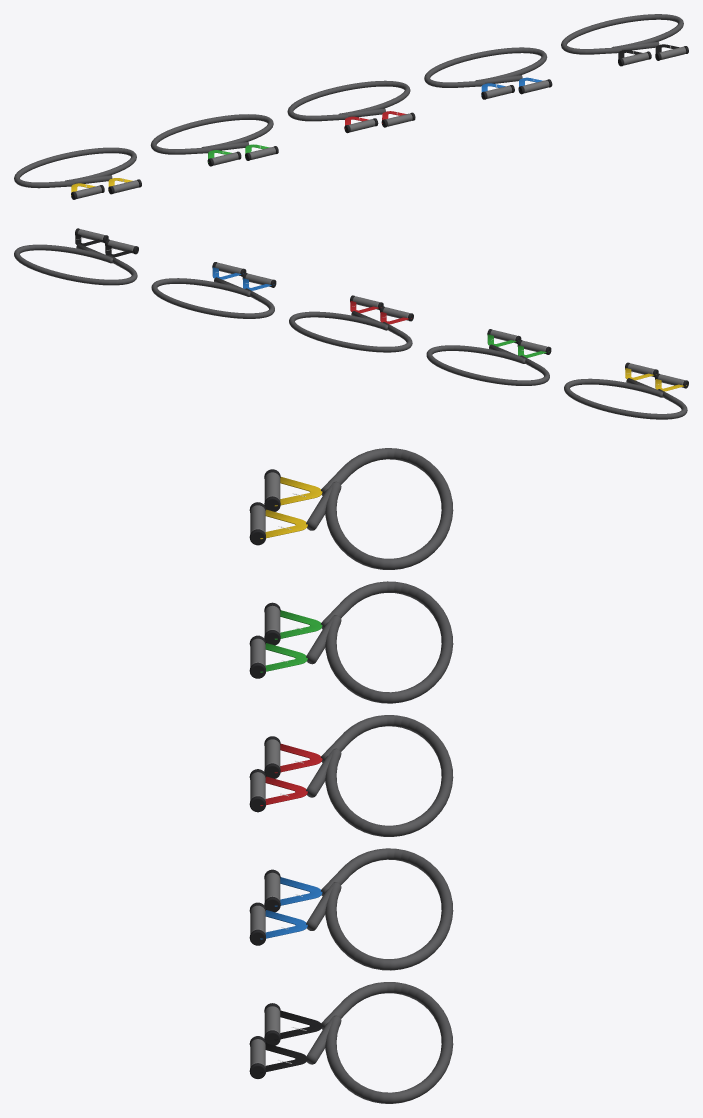
File: life-fitness-resistance-tubes_v001.glb
3 views of the same model, one above another, from view 1: azimuth 30°, elevation 25°; view 2: azimuth 150°, elevation 25°; view 3: azimuth 270°, elevation 25° (orthographic). The views are drawn at different scales.
Parts seen in each view (by area): view 1: life-fitness-resistance-tubes_sleeve, life-fitness-resistance-tubes_grip, life-fitness-resistance-tubes_capr; view 2: life-fitness-resistance-tubes_sleeve, life-fitness-resistance-tubes_grip, life-fitness-resistance-tubes_capr; view 3: life-fitness-resistance-tubes_sleeve, life-fitness-resistance-tubes_grip, life-fitness-resistance-tubes_capr, life-fitness-resistance-tubes_blue, life-fitness-resistance-tubes_green, life-fitness-resistance-tubes_black, life-fitness-resistance-tubes_yellow, life-fitness-resistance-tubes_red.
Boxes of the visible parts, <box> form: life-fitness-resistance-tubes_sleeve: <box>14,14,683,188</box>; life-fitness-resistance-tubes_grip: <box>75,46,686,198</box>; life-fitness-resistance-tubes_capr: <box>71,46,688,199</box>; life-fitness-resistance-tubes_sleeve: <box>14,244,687,419</box>; life-fitness-resistance-tubes_grip: <box>77,229,684,387</box>; life-fitness-resistance-tubes_capr: <box>75,228,688,388</box>; life-fitness-resistance-tubes_sleeve: <box>306,448,453,1103</box>; life-fitness-resistance-tubes_grip: <box>250,472,280,1067</box>; life-fitness-resistance-tubes_capr: <box>249,469,280,1078</box>; life-fitness-resistance-tubes_blue: <box>260,877,322,939</box>; life-fitness-resistance-tubes_green: <box>260,610,322,672</box>; life-fitness-resistance-tubes_black: <box>260,1010,322,1073</box>; life-fitness-resistance-tubes_yellow: <box>260,477,322,539</box>; life-fitness-resistance-tubes_red: <box>260,743,322,806</box>.
Bounding box in the file's own units: 3.16 × 0.0336 × 0.4187.
